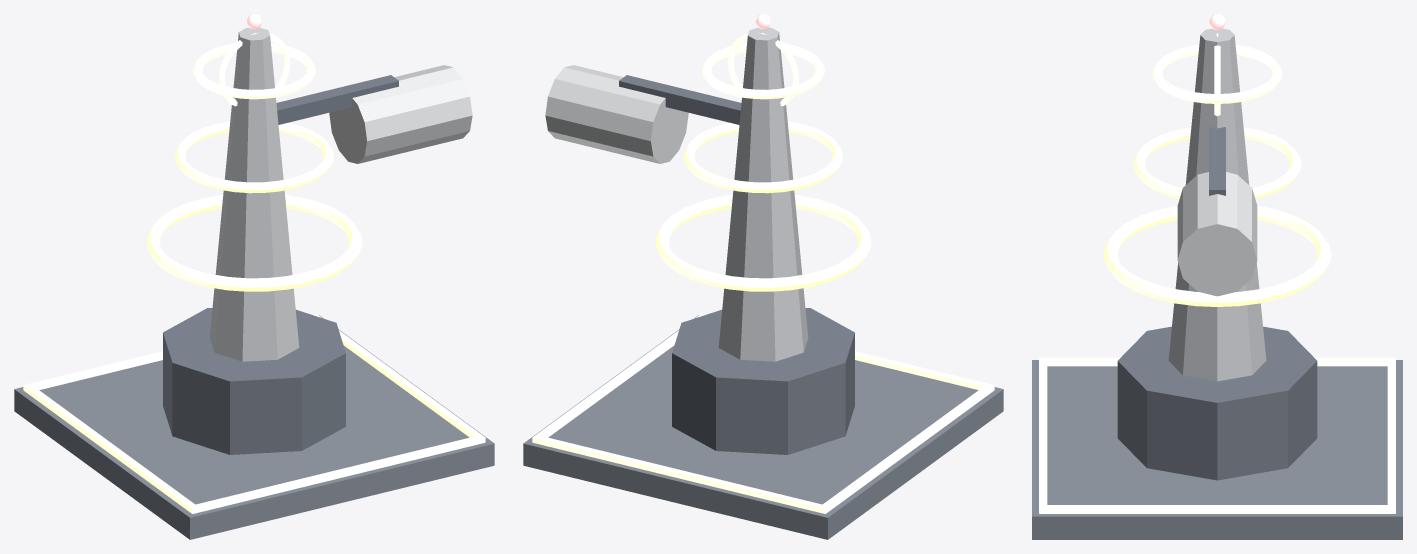
The model's file is trade_hub.glb.
The picture shows the model from 3 angles, left to right: view 1: azimuth 30°, elevation 25°; view 2: azimuth 150°, elevation 25°; view 3: azimuth 270°, elevation 25°; orthographic projection. The views are drawn at different scales.
Parts seen in each view (by area): view 1: Cube, Cylinder, Cone, Cylinder.001, Torus, Torus.001, Cube.001, Cube.005, Torus.002, Cube.002, Cube.004, Cube.003 (+1 smaller); view 2: Cube, Cylinder, Cone, Cylinder.001, Torus, Torus.001, Cube.003, Cube.005, Torus.002, Cube.002, Cube.004, Cube.001 (+1 smaller); view 3: Cube, Cylinder, Cone, Cylinder.001, Torus, Cube.004, Torus.001, Torus.002, Cube.002, Cube.001, Cube.003, Cube.005.
Boxes of the visible parts, x1=… form: Cube: x1=14, y1=315, x2=494, y2=539; Cylinder: x1=163, y1=308, x2=345, y2=454; Cone: x1=209, y1=27, x2=299, y2=361; Cylinder.001: x1=329, y1=65, x2=472, y2=163; Torus: x1=146, y1=194, x2=362, y2=291; Torus.001: x1=175, y1=121, x2=333, y2=193; Cube.001: x1=189, y1=435, x2=485, y2=513; Cube.005: x1=276, y1=75, x2=398, y2=124; Torus.002: x1=193, y1=43, x2=315, y2=99; Cube.002: x1=23, y1=384, x2=198, y2=513; Cube.004: x1=315, y1=314, x2=485, y2=441; Cube.003: x1=24, y1=314, x2=319, y2=389; Cube: x1=523, y1=315, x2=1003, y2=539; Cylinder: x1=672, y1=308, x2=854, y2=454; Cone: x1=718, y1=27, x2=808, y2=361; Cylinder.001: x1=545, y1=65, x2=688, y2=163; Torus: x1=655, y1=194, x2=871, y2=291; Torus.001: x1=684, y1=121, x2=842, y2=193; Cube.003: x1=532, y1=435, x2=828, y2=513; Cube.005: x1=619, y1=75, x2=741, y2=124; Torus.002: x1=702, y1=43, x2=824, y2=99; Cube.002: x1=819, y1=383, x2=994, y2=513; Cube.004: x1=532, y1=314, x2=700, y2=441; Cube.001: x1=698, y1=314, x2=993, y2=389; Cube: x1=1032, y1=360, x2=1402, y2=539; Cylinder: x1=1117, y1=326, x2=1317, y2=480; Cone: x1=1168, y1=28, x2=1266, y2=381; Cylinder.001: x1=1177, y1=172, x2=1257, y2=296; Torus: x1=1103, y1=205, x2=1331, y2=306; Cube.004: x1=1039, y1=505, x2=1395, y2=513; Torus.001: x1=1133, y1=127, x2=1301, y2=198; Torus.002: x1=1152, y1=45, x2=1282, y2=103; Cube.002: x1=1039, y1=357, x2=1395, y2=366; Cube.001: x1=1039, y1=358, x2=1047, y2=513; Cube.003: x1=1387, y1=358, x2=1395, y2=513; Cube.005: x1=1209, y1=127, x2=1225, y2=195.
Bounding box in the file's own units: 3 × 3.46 × 2.6.
